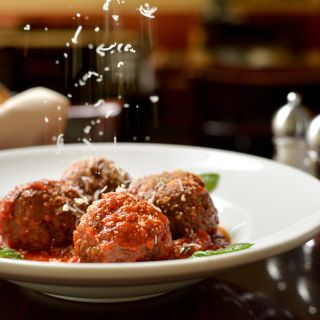meatballs: (79, 199, 163, 258), (139, 178, 210, 234), (15, 188, 81, 238)
